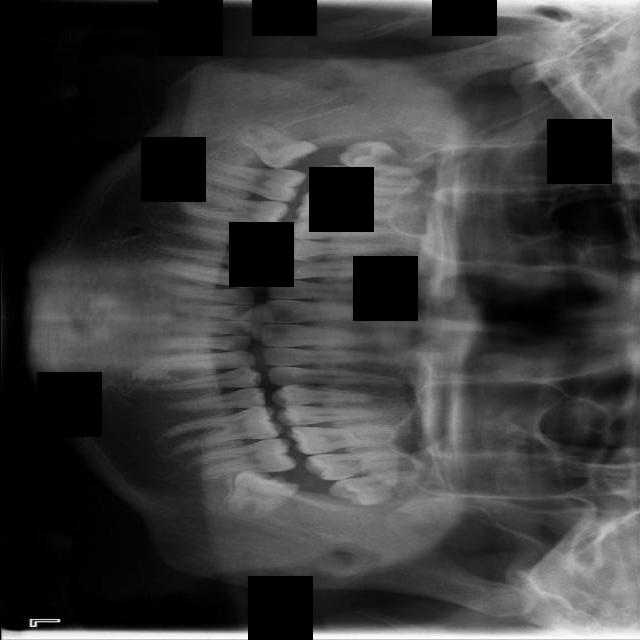3M ESPE Implant: (335, 137, 434, 180)
73: (50, 616, 62, 622)
BioHorizons Implant: (302, 447, 418, 482)
BioLife Implant: (327, 465, 426, 512)
Biomet 3i Implant: (222, 462, 301, 532)
Blue Sky Bio Implant: (189, 436, 298, 479)
Caries: (308, 165, 420, 194)
Implant: (198, 158, 306, 205)
Keystone Dental Implant: (228, 113, 320, 184)
